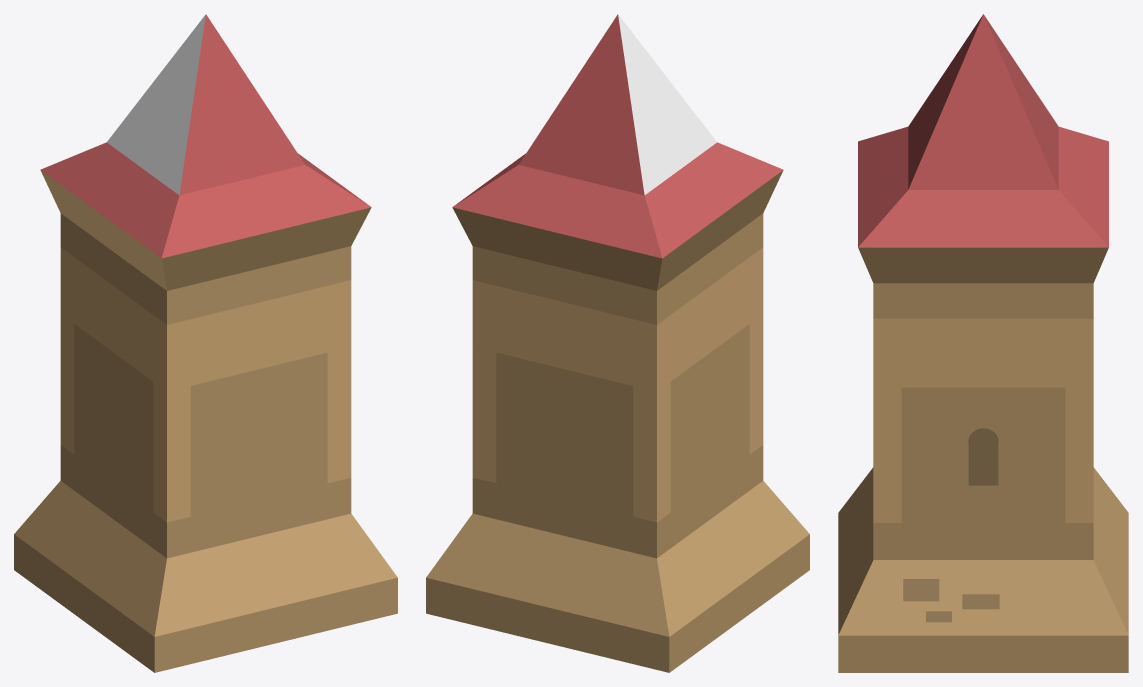
The model's file is CharmTower.dae.
3 views of the same model, side by side, from view 1: azimuth 30°, elevation 25°; view 2: azimuth 150°, elevation 25°; view 3: azimuth 270°, elevation 25° (orthographic). The views are drawn at different scales.
Visible parts, largest first — view 1: Group97 (×4), Group18, Group80 (×4); view 2: Group97 (×4), Group18, Group80 (×4); view 3: Group97 (×3), Group18 (×3), Group80 (×4).
Boxes of the visible parts, x1=… form: Group97 (×4): x1=40, y1=14, x2=371, y2=391; Group18: x1=14, y1=445, x2=397, y2=672; Group80 (×4): x1=60, y1=314, x2=351, y2=522; Group97 (×4): x1=452, y1=14, x2=783, y2=391; Group18: x1=426, y1=445, x2=809, y2=672; Group80 (×4): x1=472, y1=314, x2=763, y2=522; Group97 (×3): x1=858, y1=14, x2=1108, y2=387; Group18 (×3): x1=838, y1=467, x2=1128, y2=672; Group80 (×4): x1=873, y1=387, x2=1093, y2=522.
Bounding box in the file's own units: 30.66 × 30.66 × 69.58.
